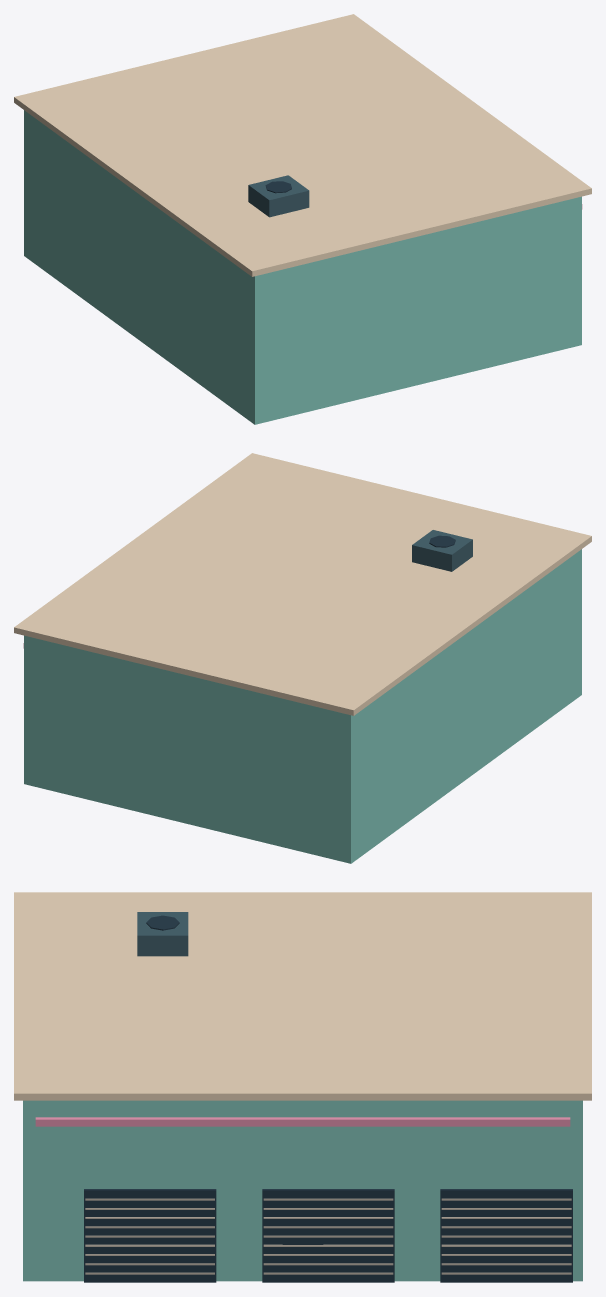
The model's file is building-garage.obj.
3 renders of one model, top to bottom at view 1: azimuth 30°, elevation 25°; view 2: azimuth 150°, elevation 25°; view 3: azimuth 270°, elevation 25°, orthographic. The views are drawn at different scales.
Visible parts, largest first — view 1: building-garage; view 2: building-garage; view 3: building-garage.
Boxes of the visible parts, box(x1,y1,x2,y2) form: building-garage: box(14, 14, 591, 424); building-garage: box(14, 453, 591, 863); building-garage: box(14, 892, 591, 1282).
Bounding box in the file's own units: 18.7 × 9.26 × 22.7.
